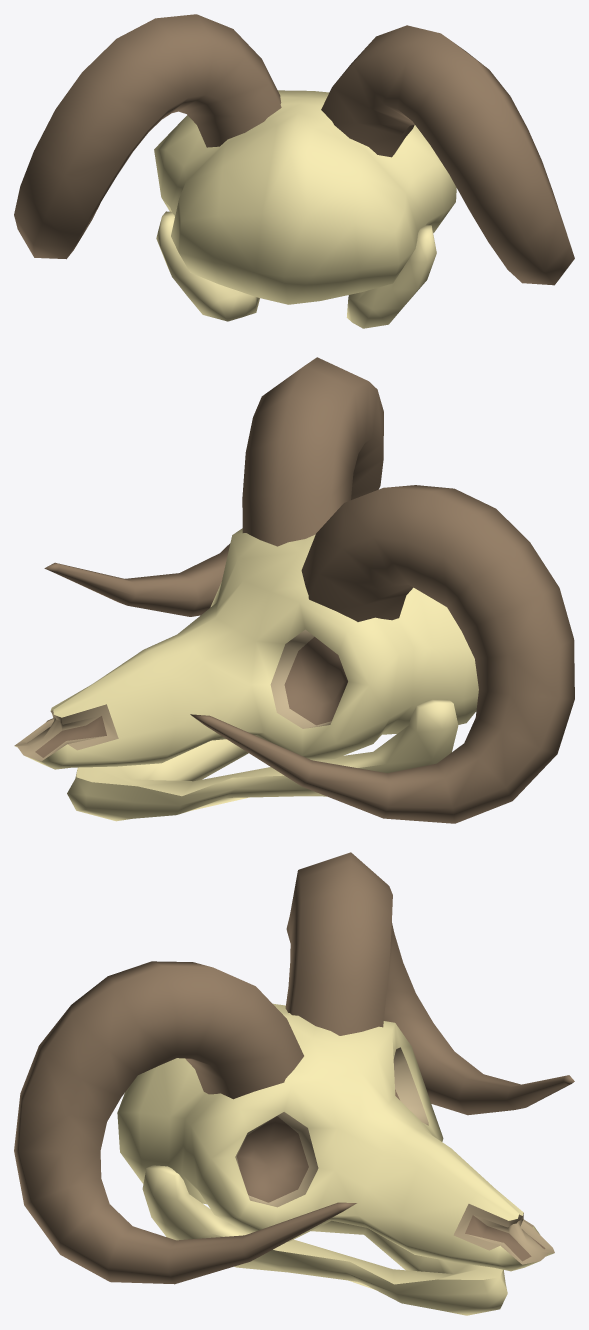
The model's file is skull.fbx.
3 renders of one model, top to bottom at view 1: azimuth 30°, elevation 25°; view 2: azimuth 150°, elevation 25°; view 3: azimuth 270°, elevation 25°, orthographic. The views are drawn at different scales.
Visible parts, largest first — view 1: Cube.153; view 2: Cube.153; view 3: Cube.153.
Boxes of the visible parts, x1=… form: Cube.153: x1=14, y1=14, x2=574, y2=328; Cube.153: x1=14, y1=357, x2=574, y2=823; Cube.153: x1=14, y1=852, x2=574, y2=1315.
Bounding box in the file's own units: 7.72 × 4.87 × 7.39.
